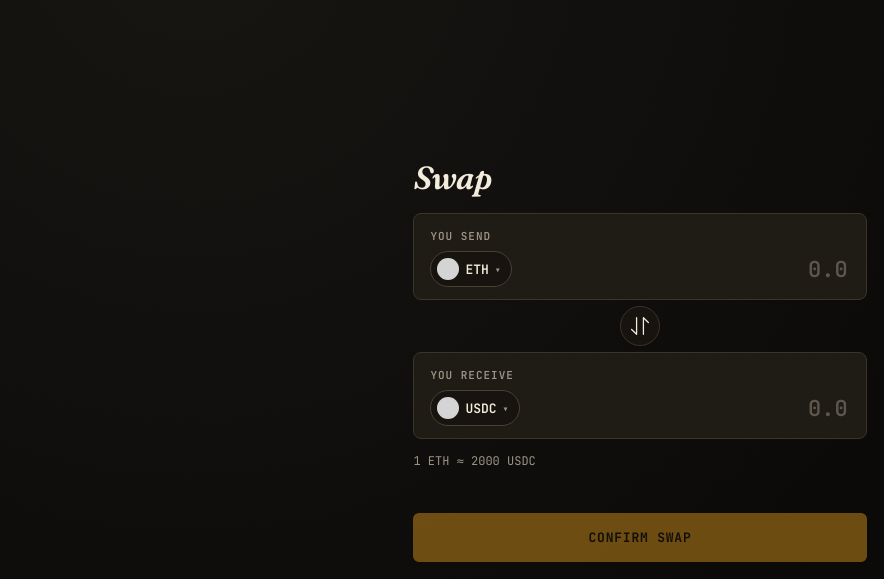
Test case: SwapForm › computes the receive amount from the send amount using live prices
In the field labelled "You send": {"x": 686, "y": 269} [522,254,850,284], type "2"
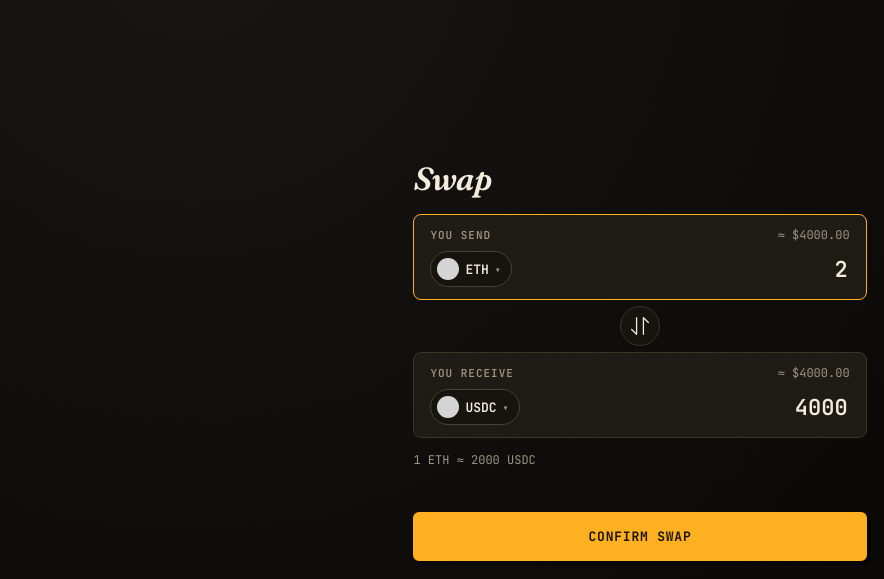
Now the field labelled "You receive" holds "4000", box [530,392,850,422]
